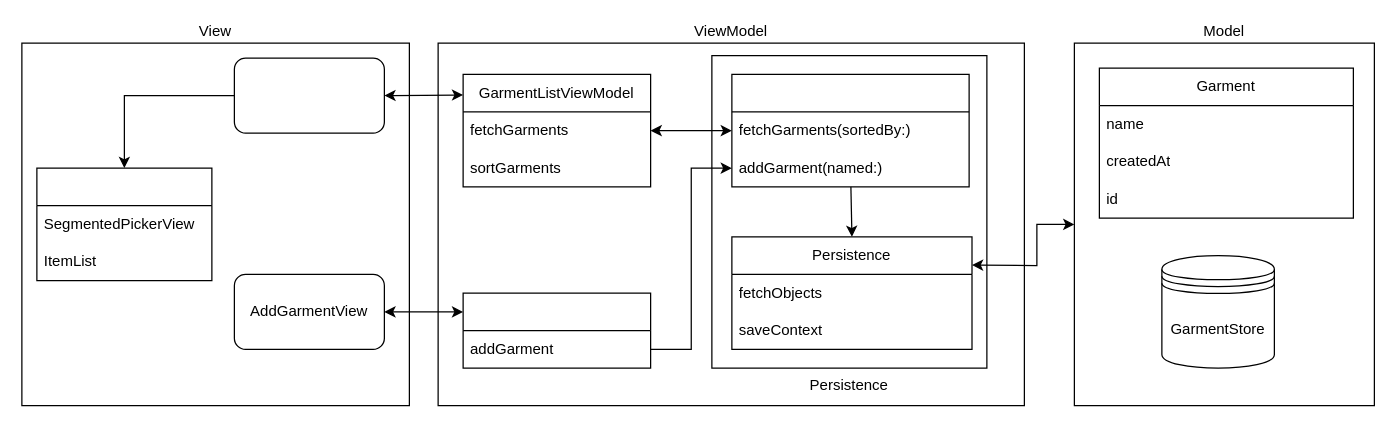
Image size: 1396x428. Some labels were removed from this diagram. The box of each missing label's shape, as (x1, y1, x2, y2) in pixels:
AddGarmentViewModel: (462, 292, 651, 368)
GarmentRepository: (731, 73, 969, 187)
GarmentsView: (233, 57, 384, 133)
View Components: (36, 167, 212, 281)
